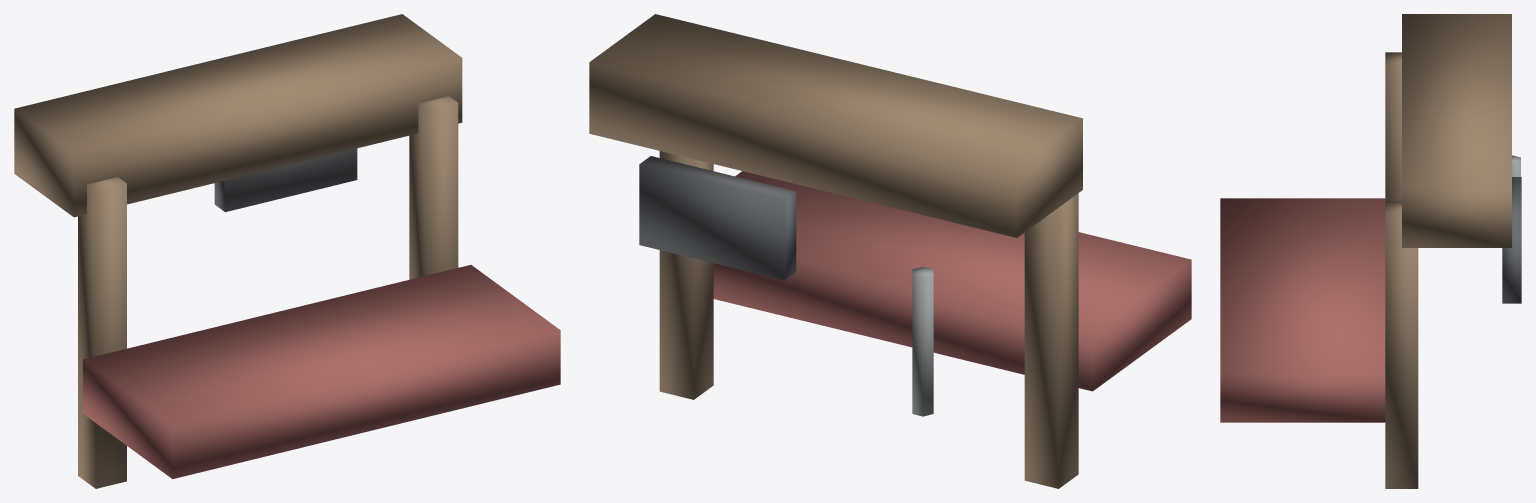
Rendered from prayer_kneeler__service.glb.
3 views of the same model, side by side, from view 1: azimuth 30°, elevation 25°; view 2: azimuth 150°, elevation 25°; view 3: azimuth 270°, elevation 25° (orthographic). The views are drawn at different scales.
Visible parts, largest first — view 1: world; view 2: world; view 3: world.
Part boxes in pixels (x1,y1,x2,y2): world: (14,14,560,488); world: (589,14,1191,488); world: (1220,14,1521,488).
Size of the model in its own units: 0.75 by 0.615 by 0.5475.
